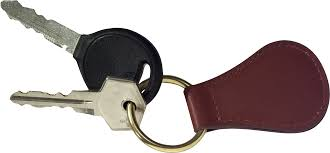key: (1, 1, 177, 132)
